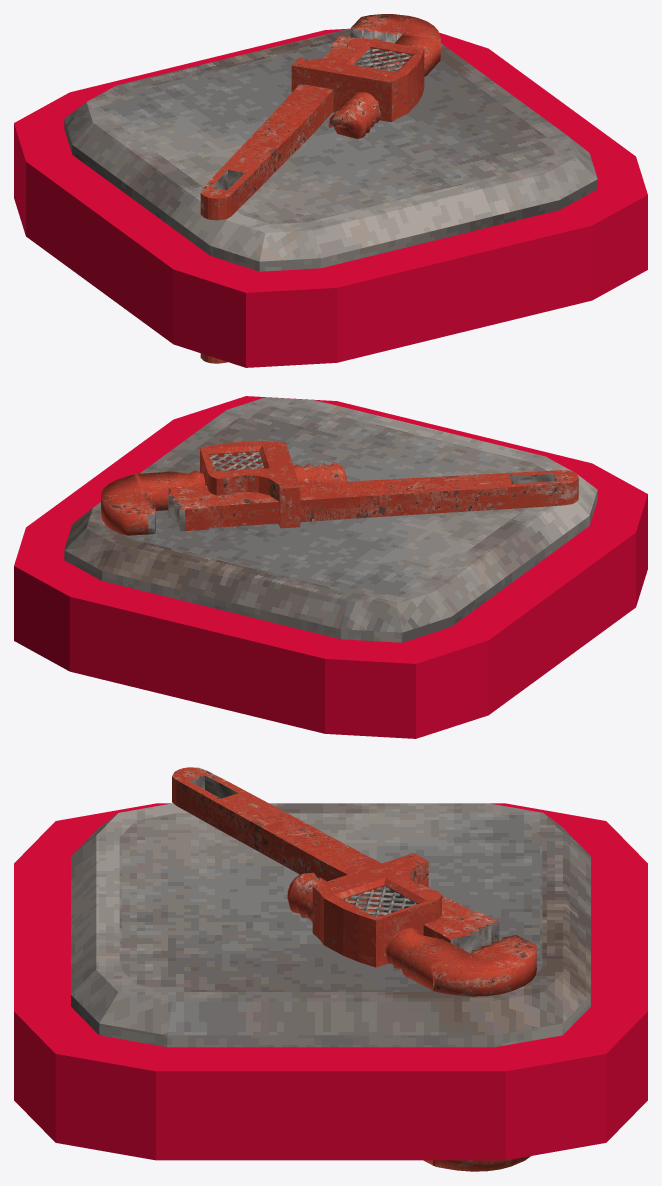
Rendered from HealthPack.glb.
3 views of the same model, one above another, from view 1: azimuth 30°, elevation 25°; view 2: azimuth 150°, elevation 25°; view 3: azimuth 270°, elevation 25° (orthographic). The views are drawn at different scales.
Parts seen in each view (by area): view 1: Cube.002, Plane, Circle, Plane.002; view 2: Cube.002, Plane, Circle, Plane.002; view 3: Cube.002, Plane, Circle, Plane.002, Circle.002.
Boxes of the visible parts, <box> form: Cube.002: <box>14,28,647,367</box>; Plane: <box>200,35,424,220</box>; Circle: <box>328,14,440,138</box>; Plane.002: <box>354,48,411,71</box>; Cube.002: <box>14,396,647,738</box>; Plane: <box>168,441,578,531</box>; Circle: <box>101,462,347,535</box>; Plane.002: <box>210,451,263,471</box>; Cube.002: <box>14,803,647,1160</box>; Plane: <box>172,767,499,967</box>; Circle: <box>287,872,536,996</box>; Plane.002: <box>344,885,416,917</box>; Circle.002: <box>423,1156,530,1171</box>.
Size of the model in its own units: 2 by 0.82 by 2.
Materials: 5 (4 with a texture image).
